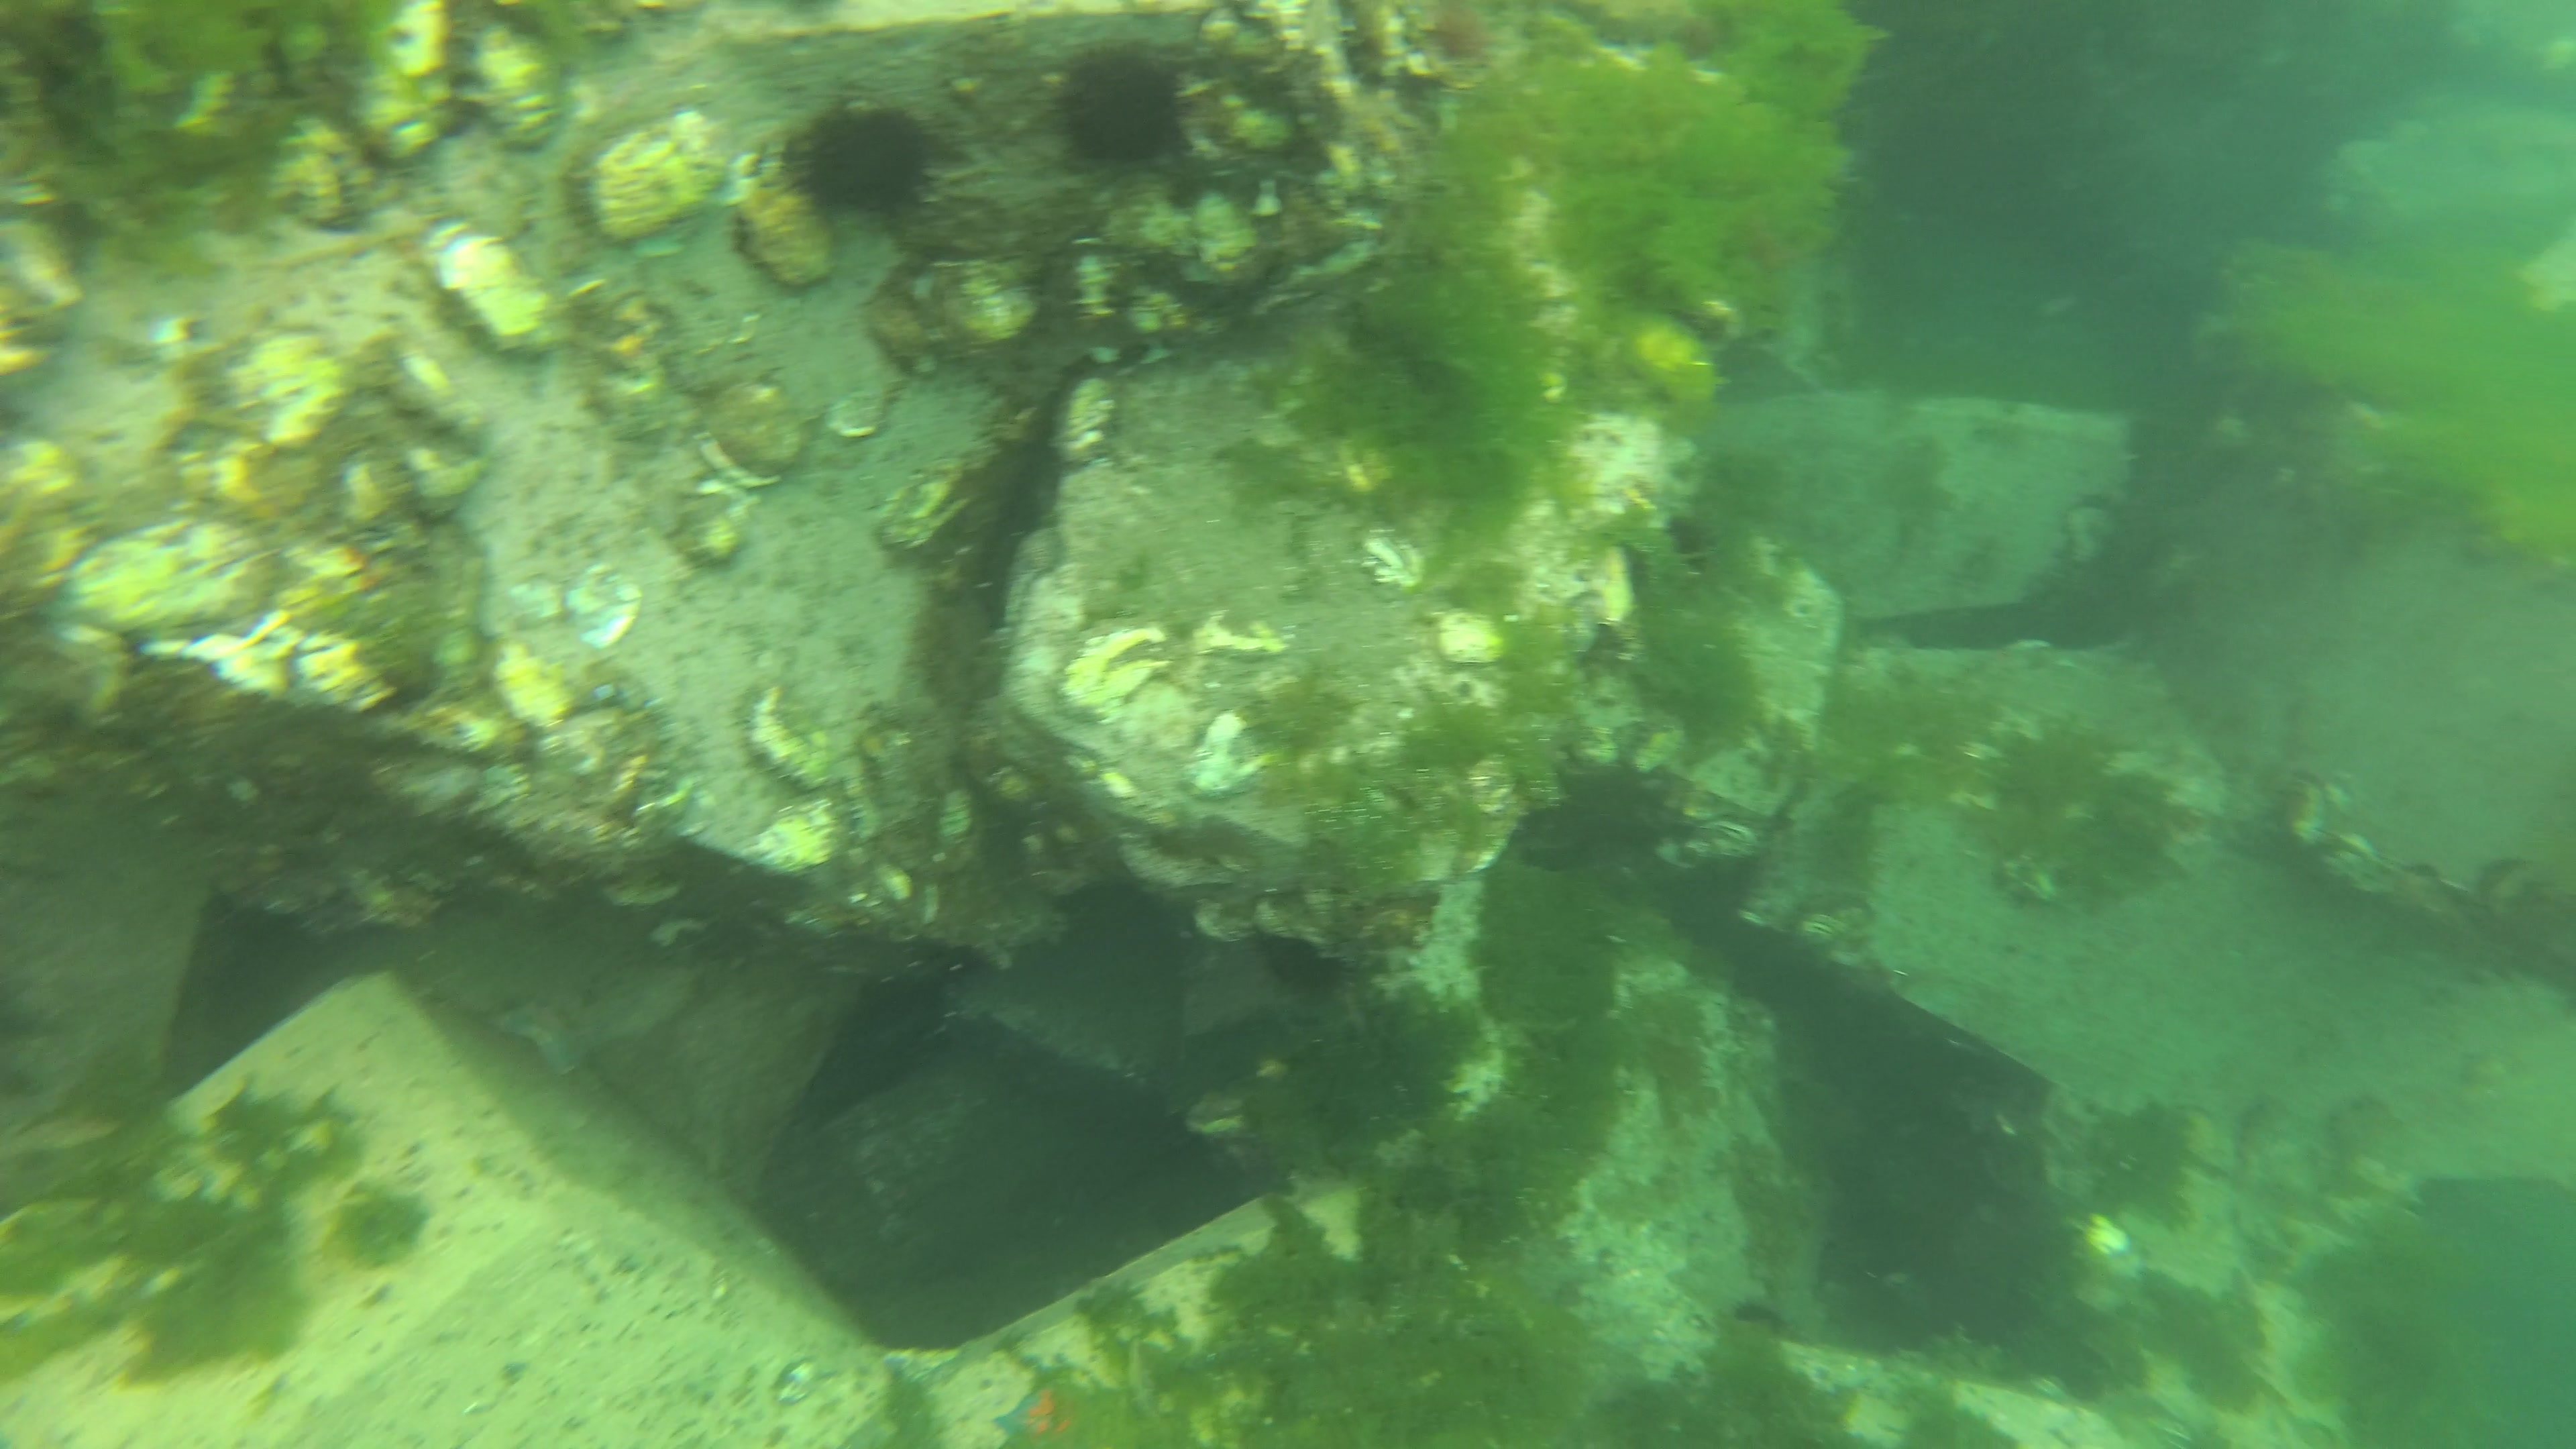echinus: (780, 97, 939, 225), (1047, 50, 1194, 168), (1251, 931, 1357, 1000), (1665, 517, 1720, 571), (1732, 1302, 1790, 1339)
